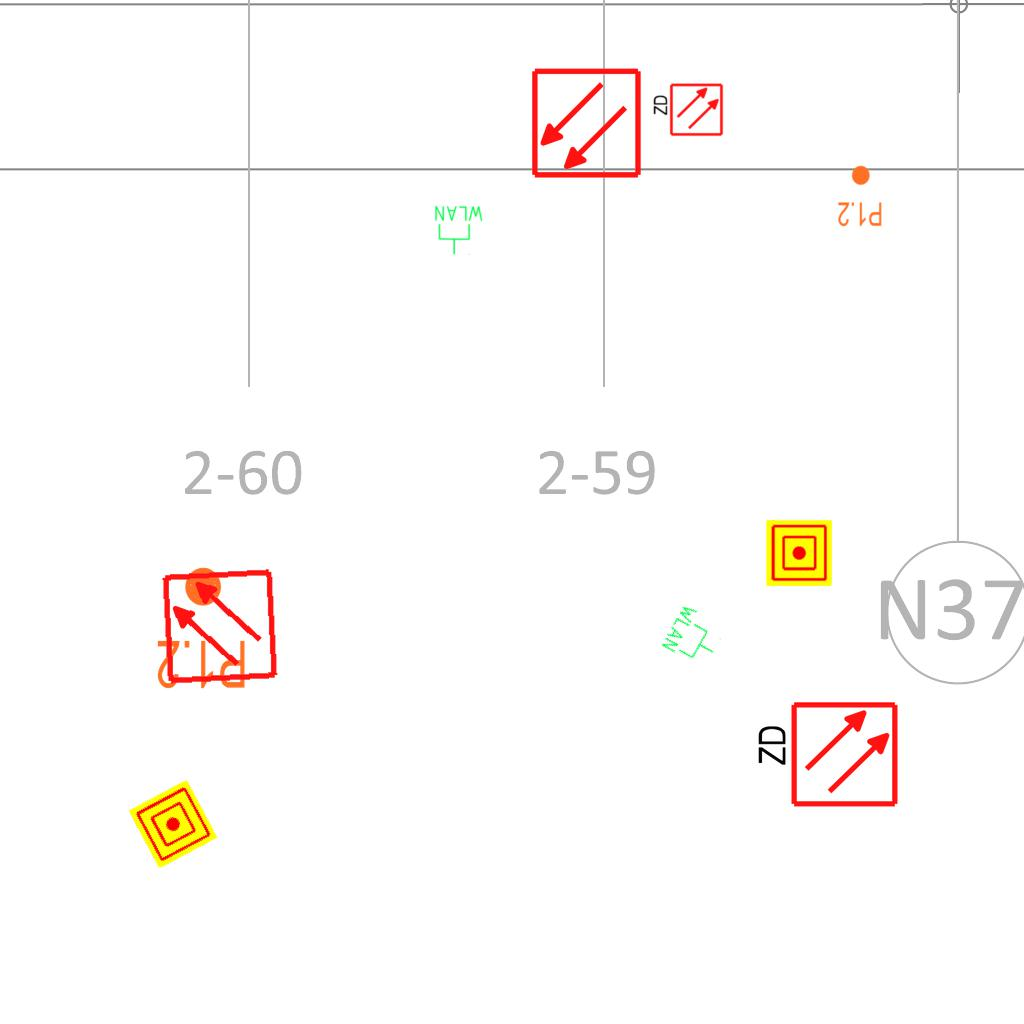Downlight_LED_Einbauleuchten_Flur: (155, 564, 248, 692), (837, 164, 883, 228)
NAM-Nichtautomatischer_Melder: (128, 779, 218, 869), (766, 520, 832, 586)
RMO_Rauchmelder_optischer: (160, 567, 279, 686), (530, 67, 643, 180)
WLAN: (658, 600, 730, 672), (433, 204, 485, 256)
ZD_Melder_in_Zwischendecke_mit_Revisionsoeffnung_mind_40_x_40_cm: (751, 699, 900, 813), (650, 82, 724, 139)
